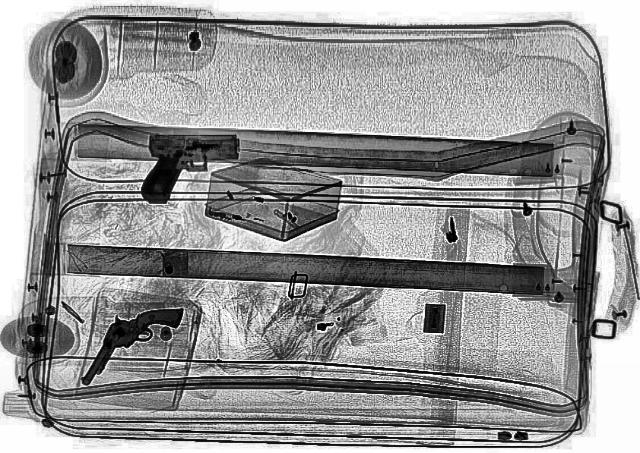Gun: (62, 291, 188, 397), (138, 130, 245, 204)
